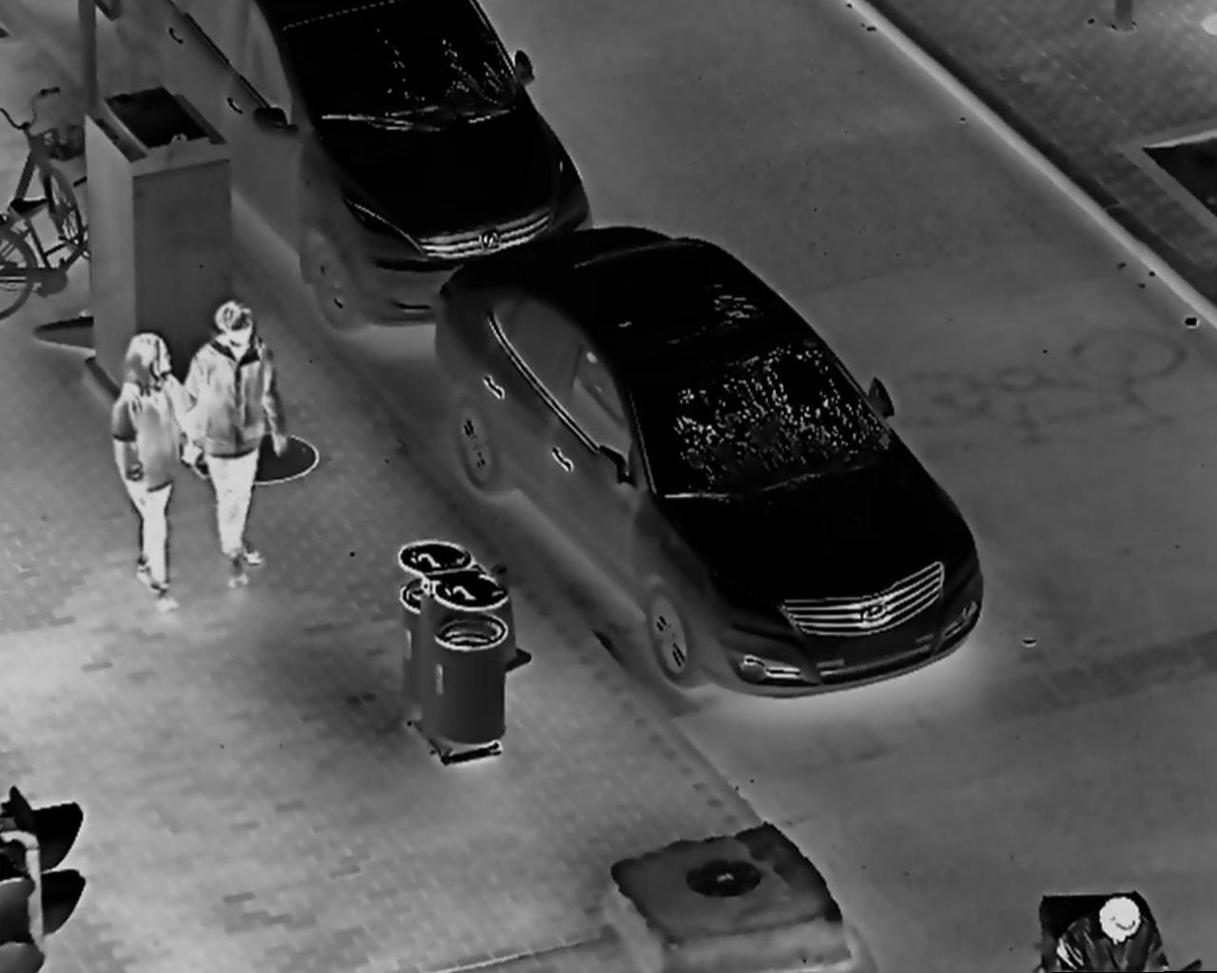person: (177, 303, 290, 590), (101, 329, 209, 620), (1033, 885, 1183, 973)
